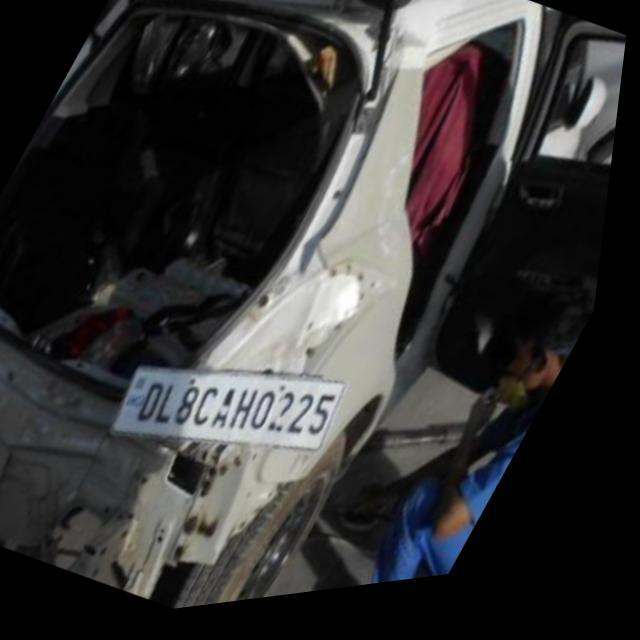dislocated part: (0, 267, 378, 610)
